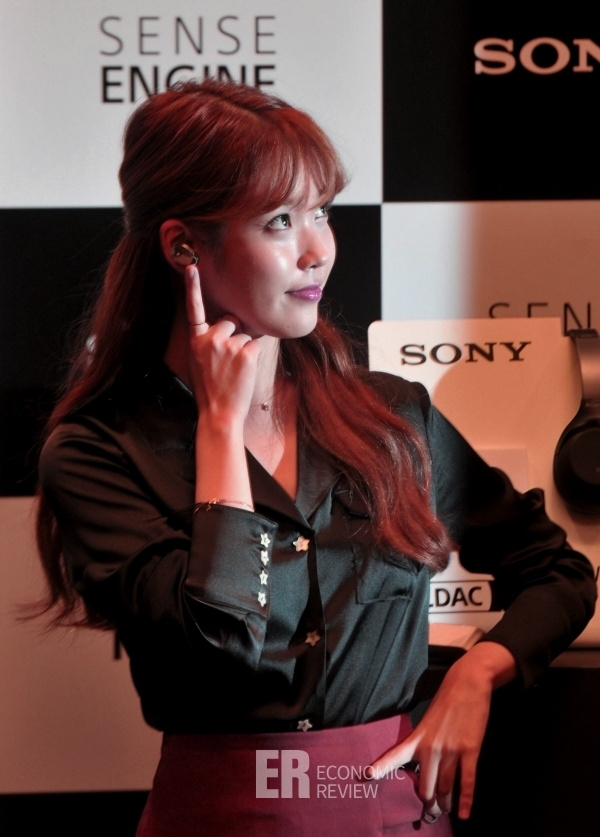earphone: (159, 219, 204, 279)
